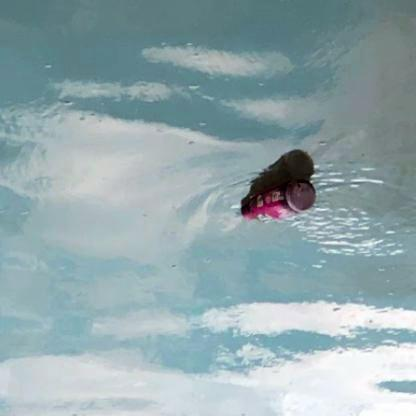Plastic: (236, 179, 315, 224)
